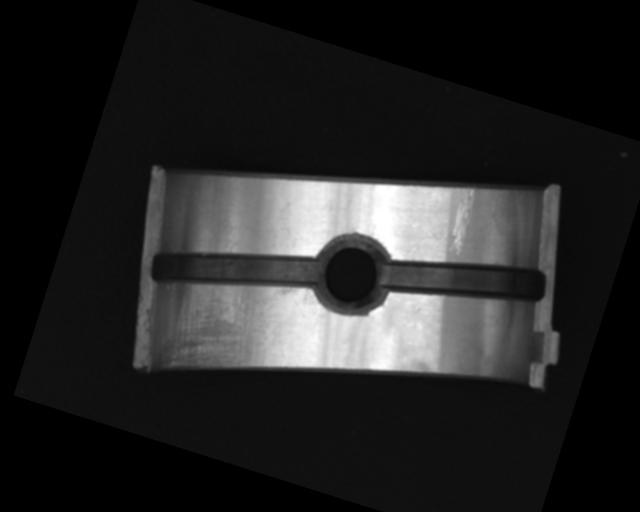gap: (148, 211, 325, 326), (375, 224, 551, 332)
hole: (301, 221, 402, 328)
nick: (443, 182, 480, 257)
scratch: (153, 253, 298, 400)
